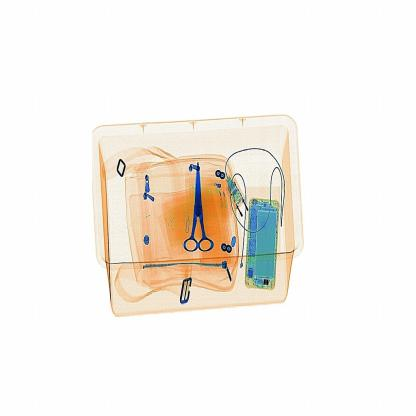gun: (178, 154, 220, 262)
